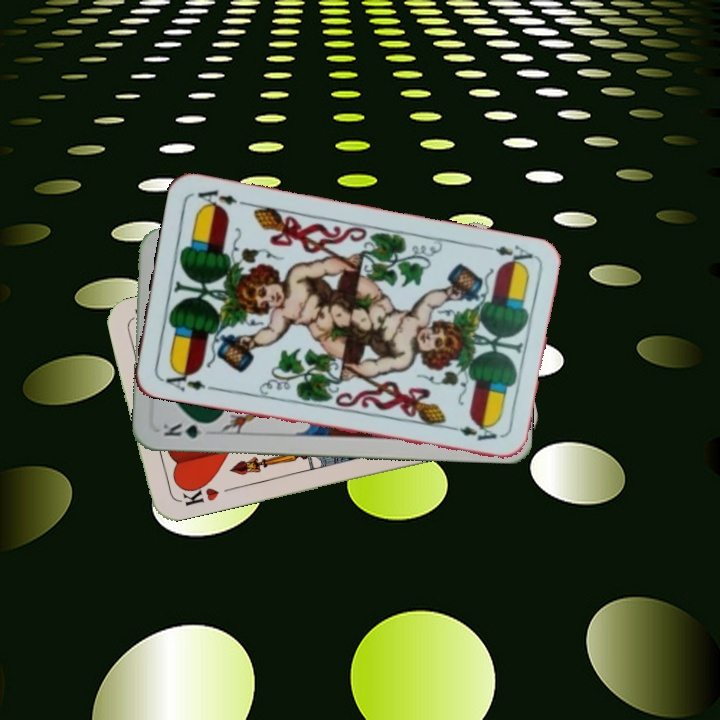EA: (157, 364, 216, 394), (477, 240, 535, 270)
GK: (159, 419, 216, 441)
HK: (172, 477, 221, 509)
